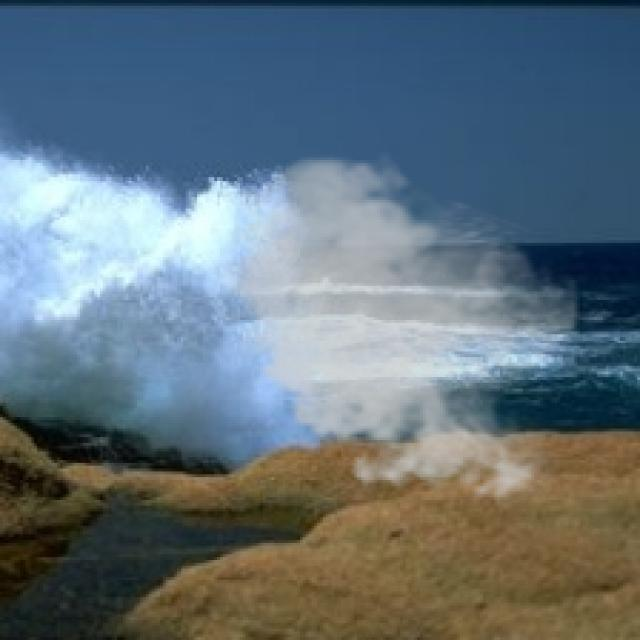smoke: (211, 148, 580, 512)
